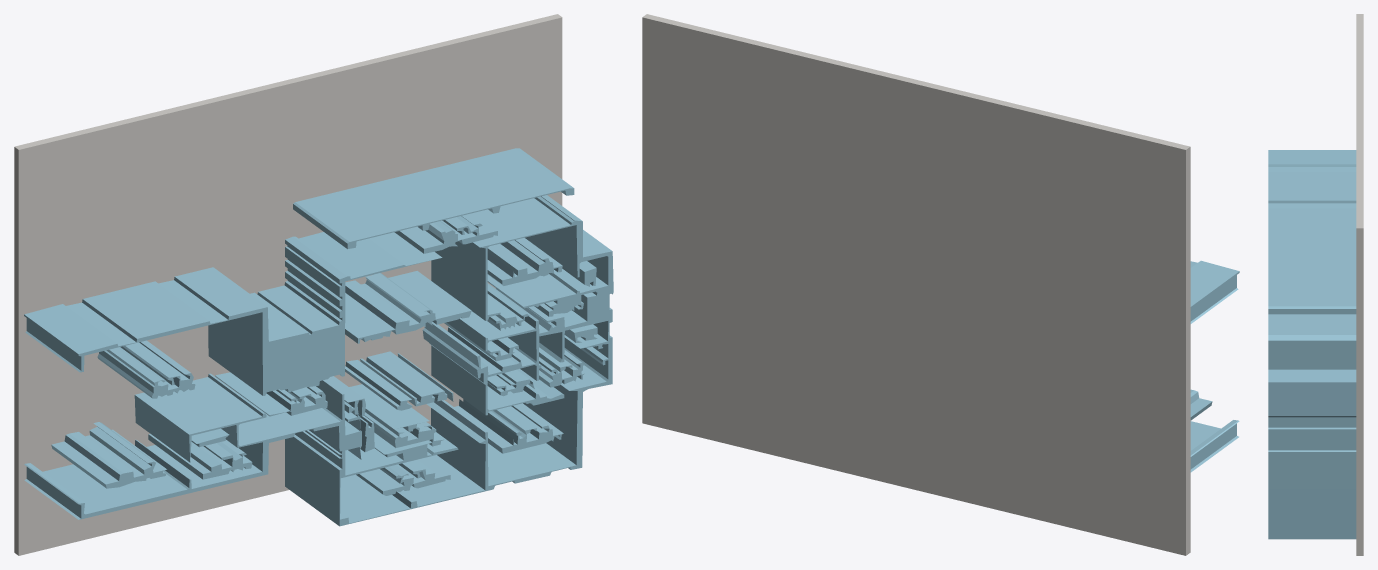
The picture shows the model from 3 angles, left to right: view 1: azimuth 30°, elevation 25°; view 2: azimuth 150°, elevation 25°; view 3: azimuth 270°, elevation 25°; orthographic projection. The views are drawn at different scales.
Parts seen in each view (by area): view 1: world; view 2: world; view 3: world.
Part boxes in pixels (x1,y1,x2,y2): world: (14, 14, 613, 555); world: (642, 14, 1239, 555); world: (1268, 14, 1363, 555).
Size of the model in its own units: 10.23 by 7.3 by 1.93.
